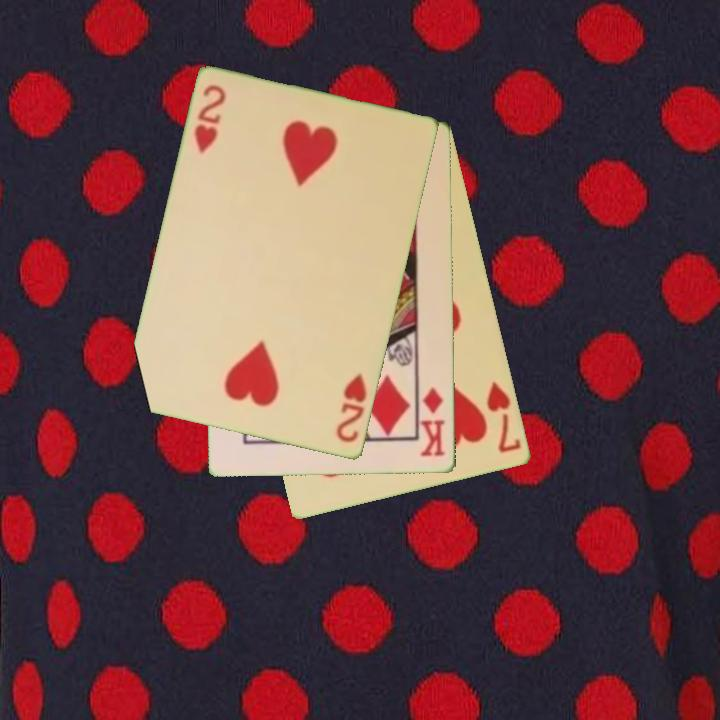2h: (191, 81, 229, 157), (333, 370, 370, 446)
7h: (483, 378, 524, 456)
Kd: (417, 384, 449, 460)
